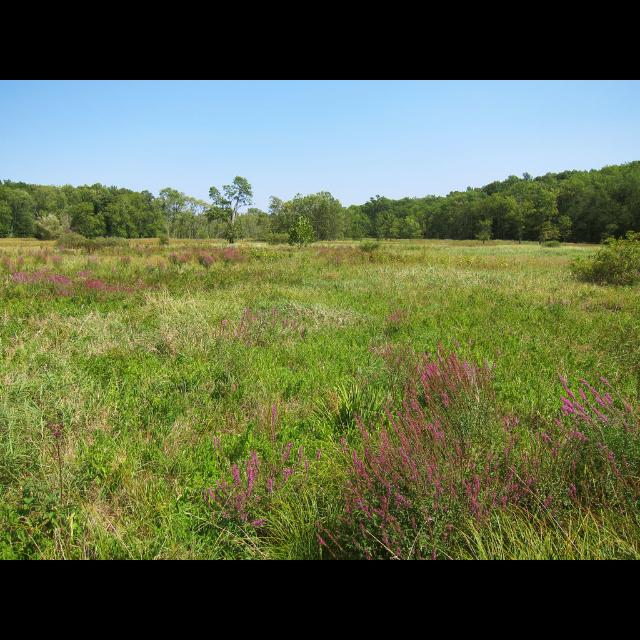Flower: (314, 343, 636, 559), (208, 408, 318, 528), (7, 272, 144, 300), (166, 247, 242, 266)
